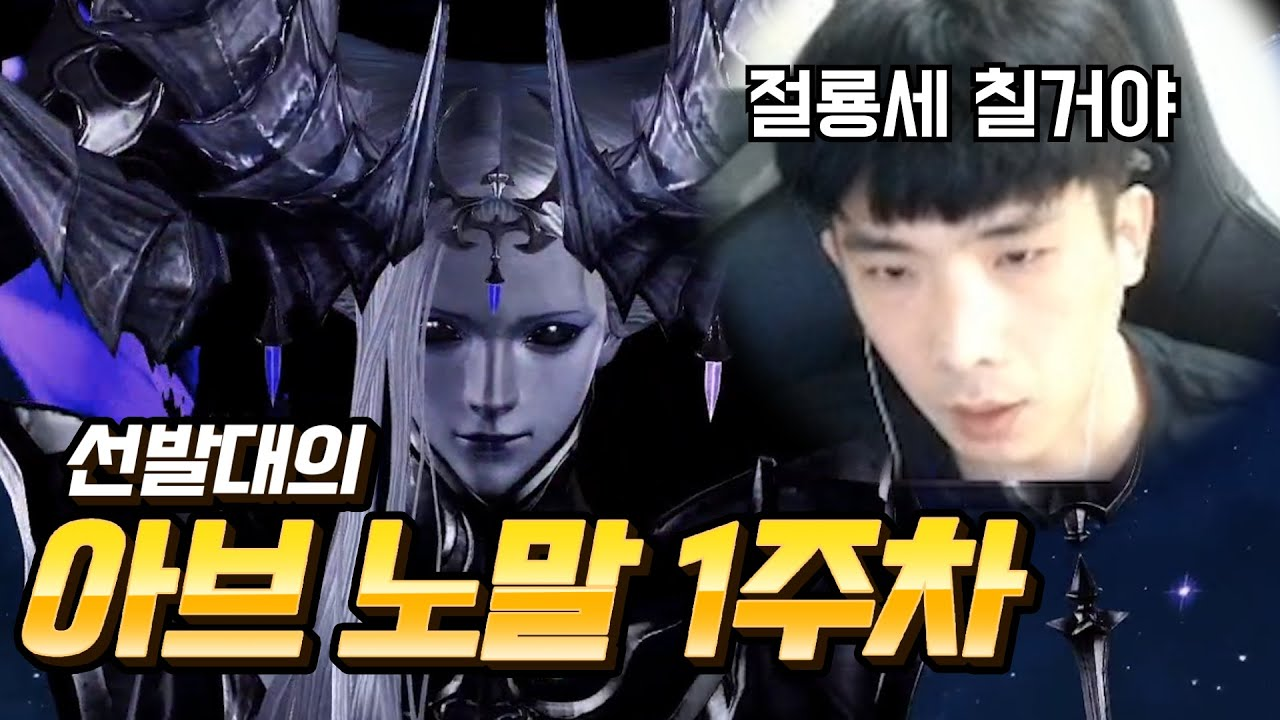1주차: (674, 510, 1043, 672)
노말: (328, 514, 654, 674)
선발대의: (63, 417, 378, 508)
아브: (16, 515, 329, 677)
절룡세: (744, 63, 954, 144)
칠꺼야: (969, 61, 1181, 143)
